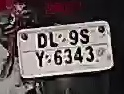3: (85, 45, 95, 66), (62, 49, 72, 66)
4: (74, 47, 84, 67)
6: (53, 50, 63, 66)
9: (67, 29, 79, 46)
D: (36, 31, 47, 50)
L: (47, 31, 59, 51)
S: (79, 28, 89, 46)
Y: (34, 50, 46, 70)
